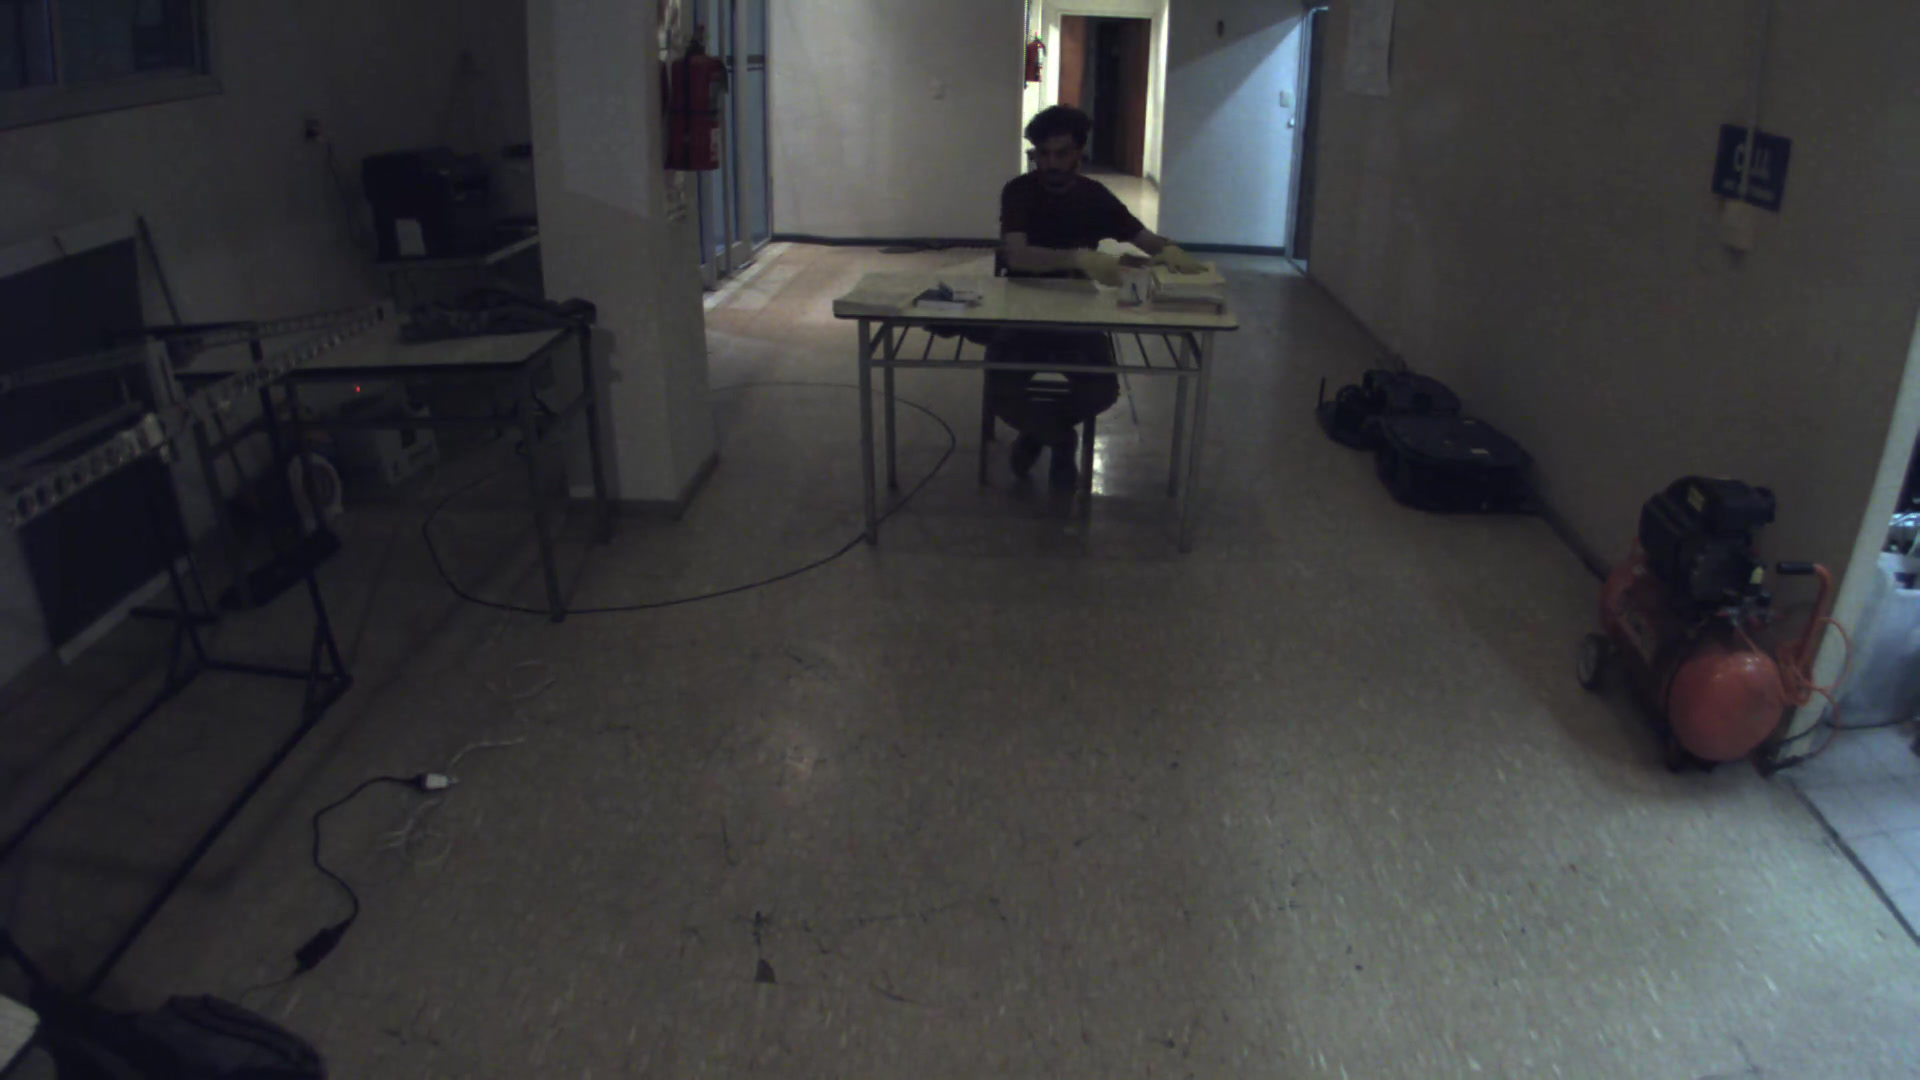hand: (1156, 239, 1221, 280), (1063, 252, 1131, 287)
